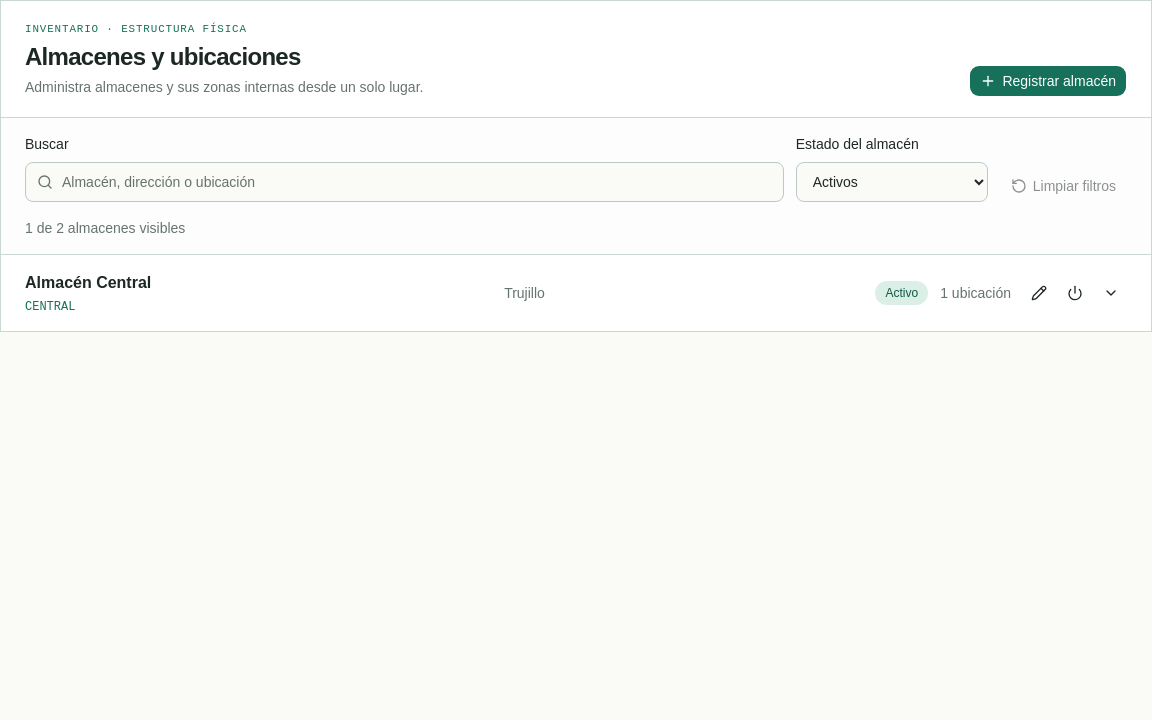
Test: DirectorioAlmacenes › busca por ubicación y revela su almacén padre
Type "GENERAL" into the search field at coordinates (404, 182), box [25, 162, 784, 202]
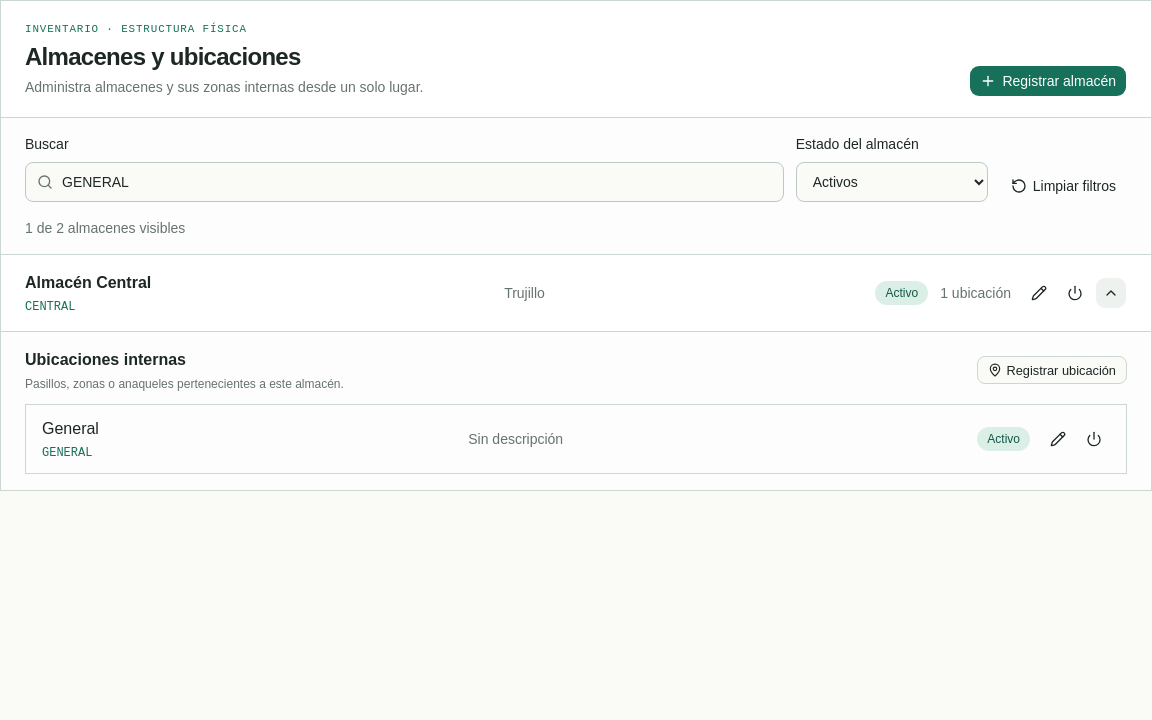
Check: the text "Almacén Central" is shown, box [25, 274, 151, 291]
Check: the text "General" is shown, box [42, 420, 99, 437]
